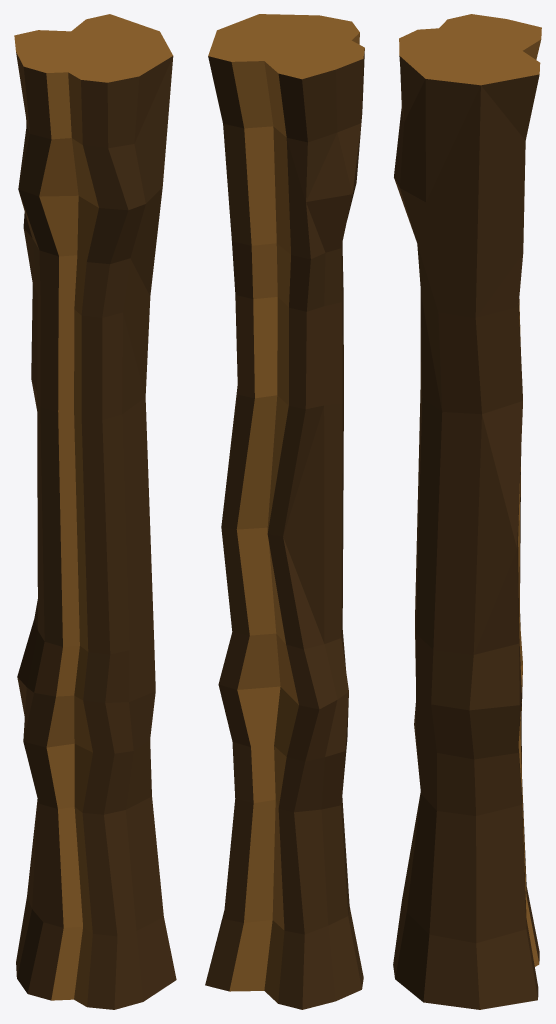
The model's file is log_1.fbx.
3 views of the same model, side by side, from view 1: azimuth 30°, elevation 25°; view 2: azimuth 150°, elevation 25°; view 3: azimuth 270°, elevation 25° (orthographic).
Visible parts, largest first — view 1: Cylinder; view 2: Cylinder; view 3: Cylinder.
Part boxes in pixels (x1,y1,x2,y2): Cylinder: (14, 14, 176, 1009); Cylinder: (205, 14, 364, 1009); Cylinder: (393, 14, 541, 1009).
Bounding box in the file's own units: 32.91 × 202 × 29.44.
